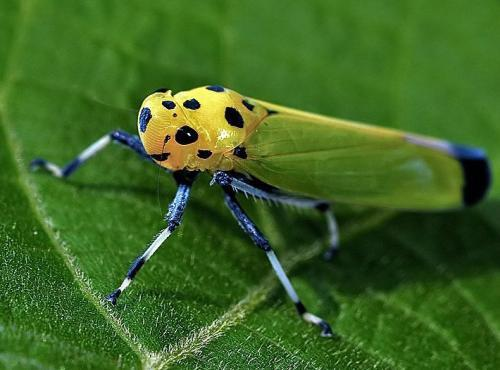Cicadellidae: (50, 85, 494, 327)
